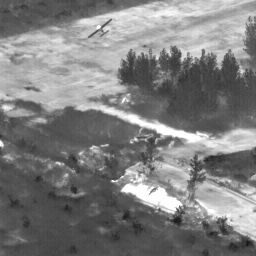aircraft: (98, 26, 100, 28)
